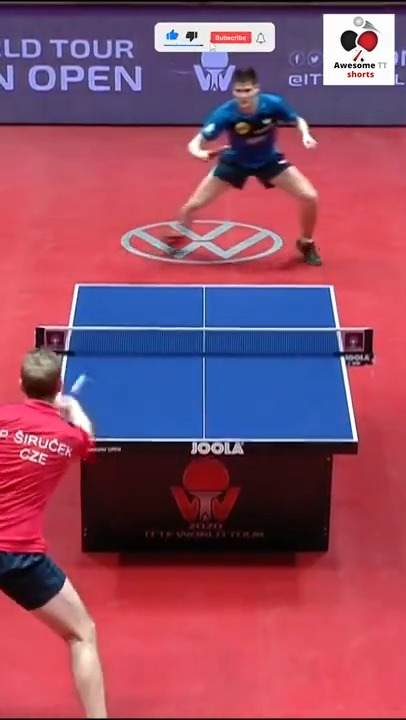Ball: (206, 124, 213, 133)
